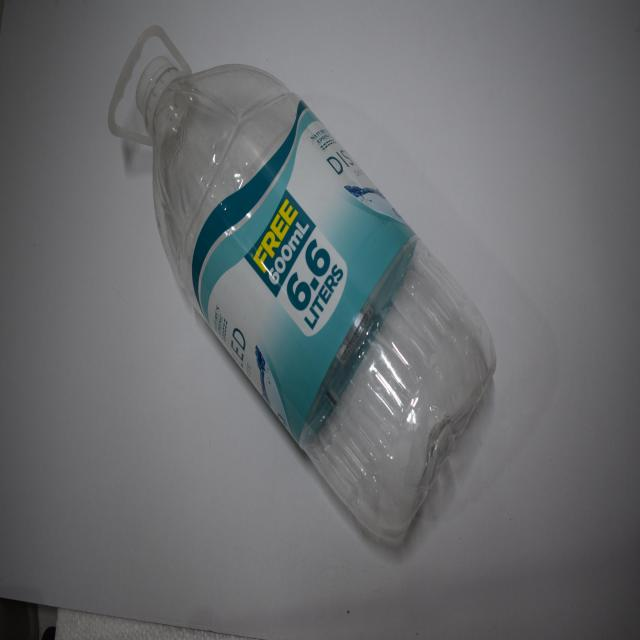plastic: (106, 16, 500, 557)
